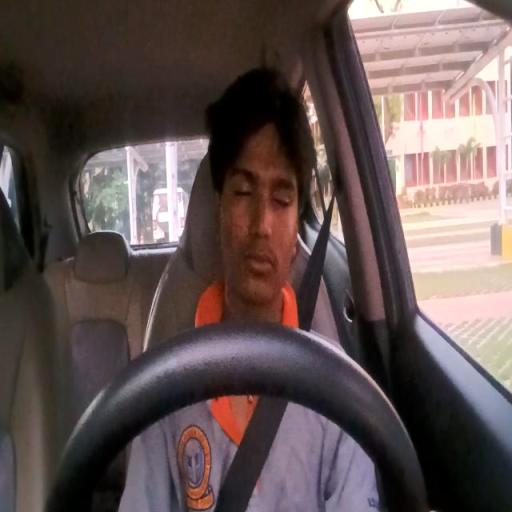sleepy: (212, 72, 313, 308)
